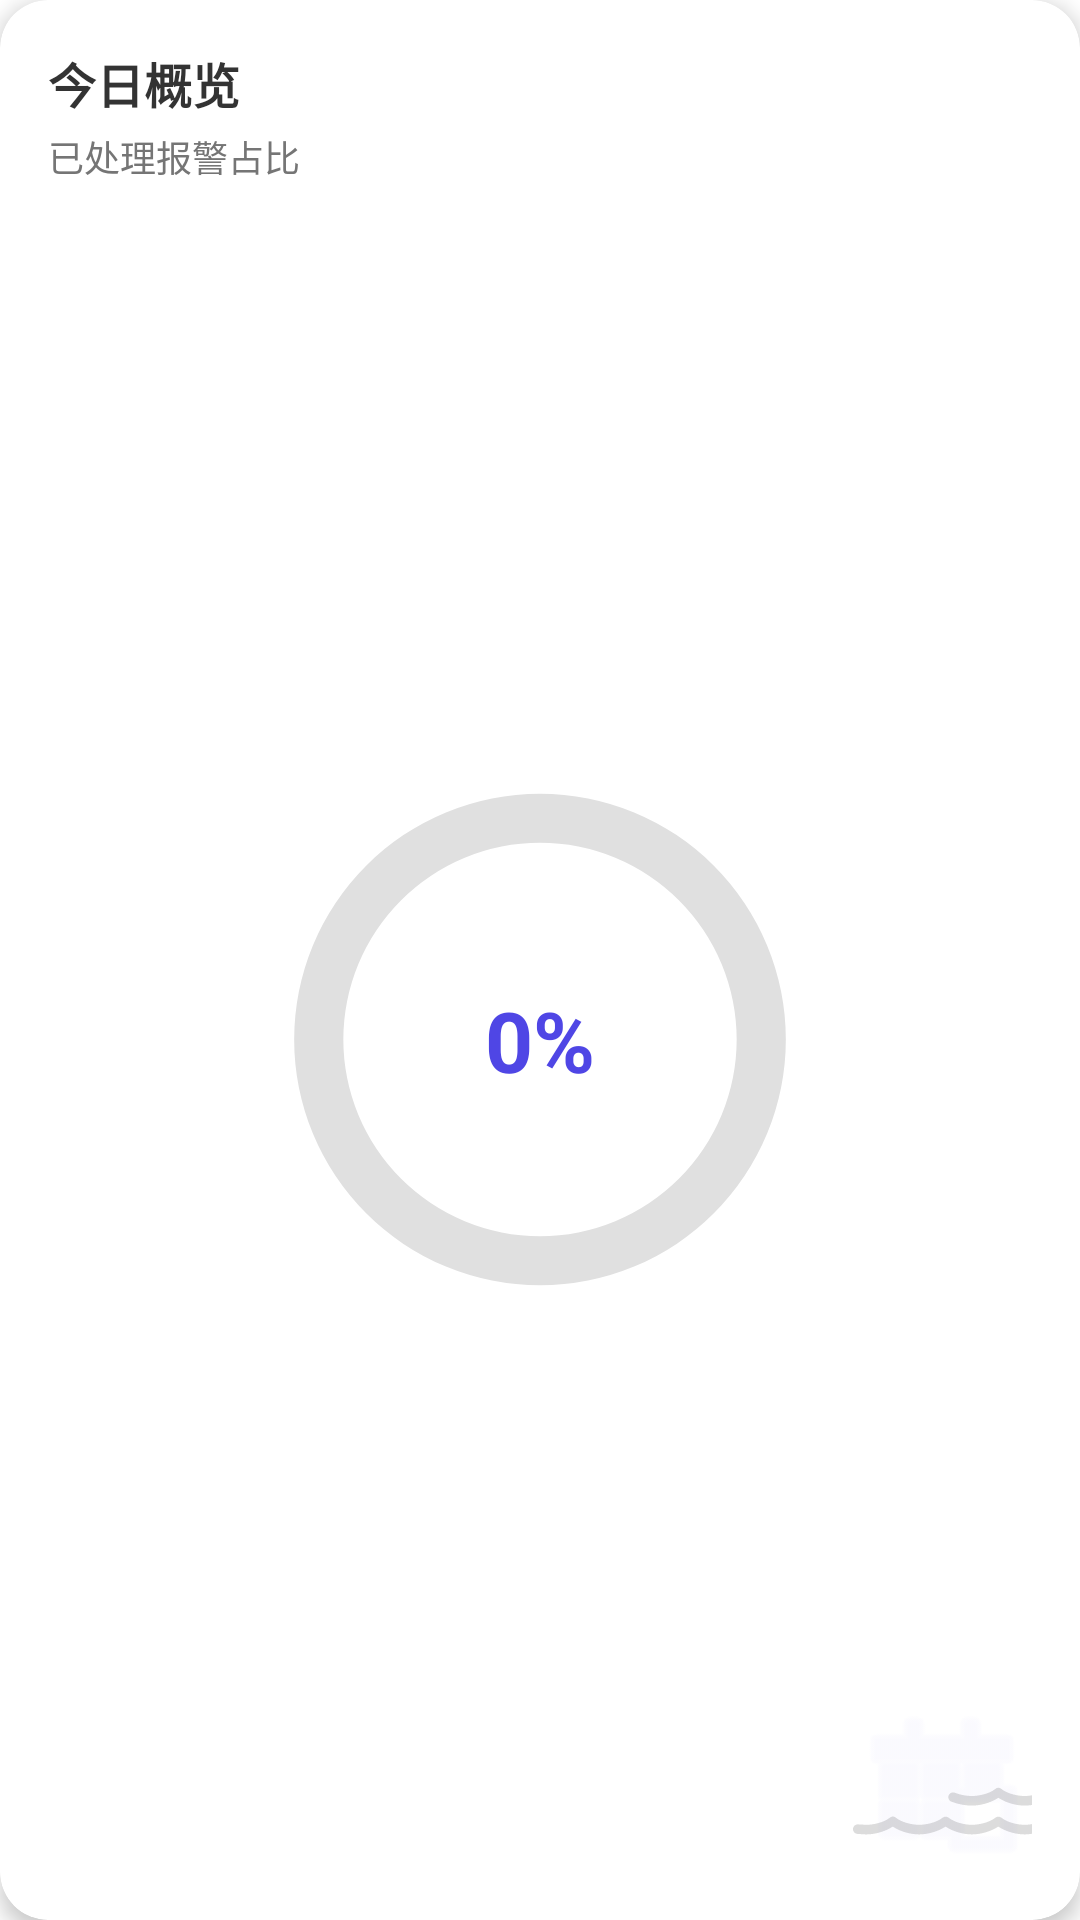

Icon bounding boxes for this 1080px×1920px phone screenshot, format (x1, y1, x2, y2):
water ripple: (853, 1788, 1080, 1920)
